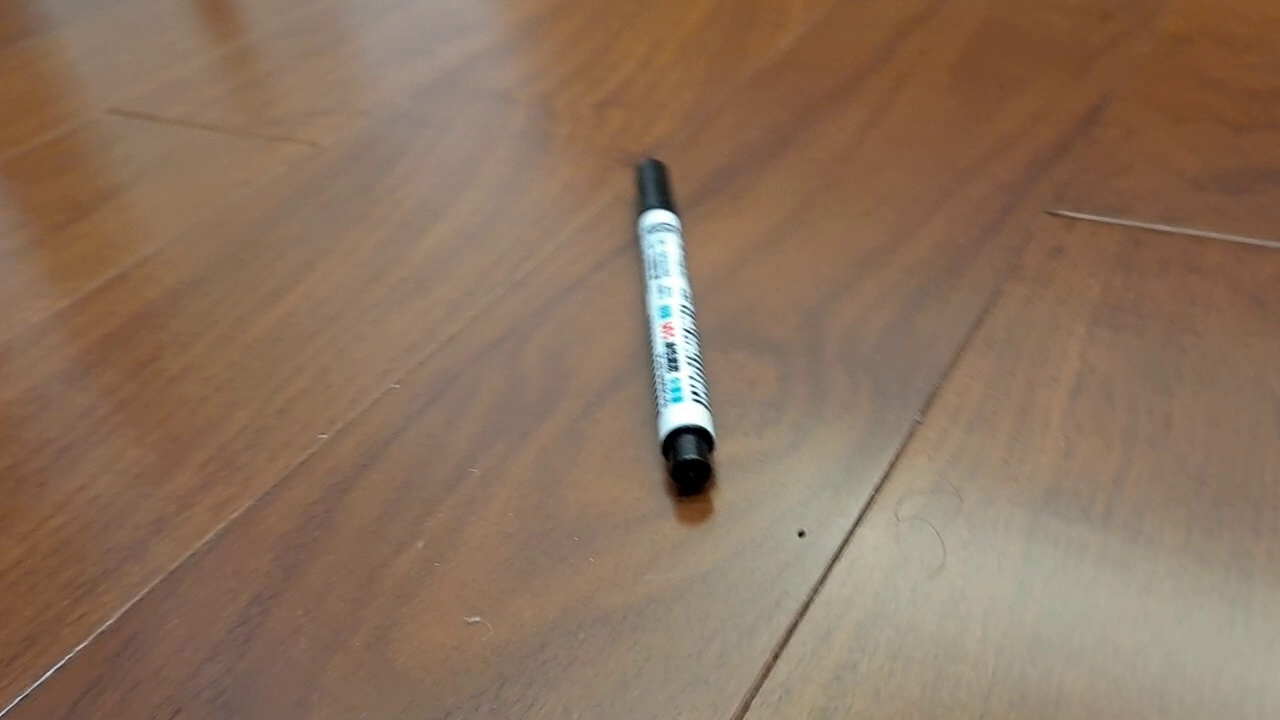pen: (631, 155, 719, 498)
